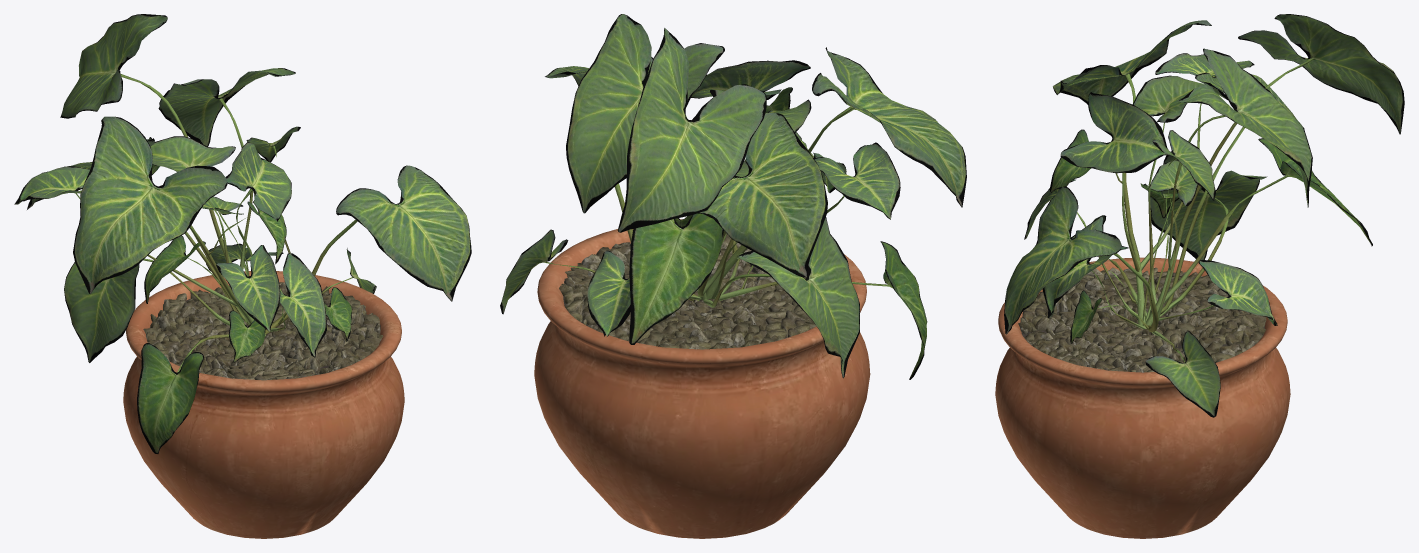
File: potted_plant_02.glb
3 views of the same model, side by side, from view 1: azimuth 30°, elevation 25°; view 2: azimuth 150°, elevation 25°; view 3: azimuth 270°, elevation 25° (orthographic). The views are drawn at different scales.
Parts seen in each view (by area): view 1: potted_plant_02_leaves, potted_plant_02_pot; view 2: potted_plant_02_leaves, potted_plant_02_pot; view 3: potted_plant_02_pot, potted_plant_02_leaves.
Part boxes in pixels (x1,y1,x2,y2): potted_plant_02_leaves: (14,14,471,453); potted_plant_02_pot: (123,271,404,538); potted_plant_02_leaves: (500,14,966,379); potted_plant_02_pot: (534,219,870,538); potted_plant_02_pot: (995,257,1290,538); potted_plant_02_leaves: (1004,14,1404,417).
Size of the model in its own units: 0.7009 by 0.8412 by 0.6574.
Materials: 2 (2 with a texture image).
